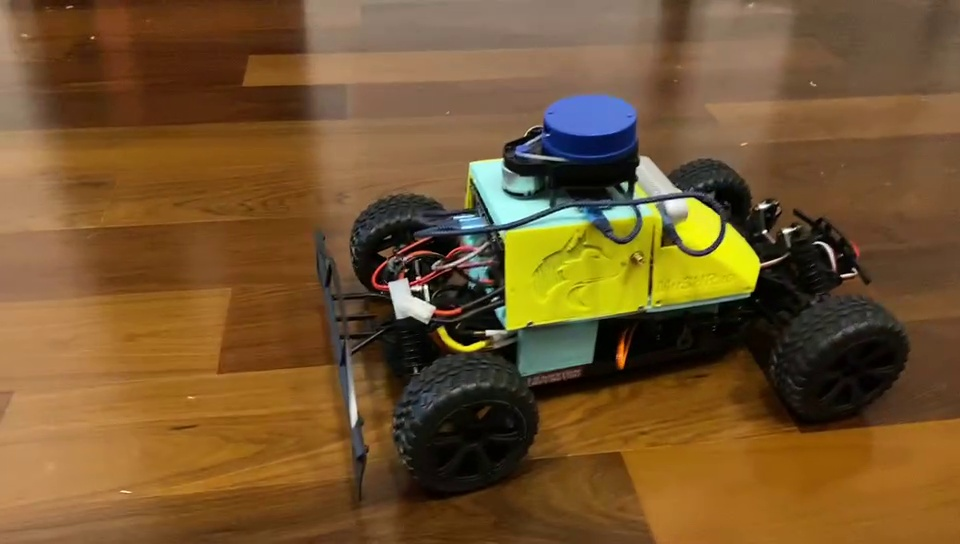mushr_car: (291, 94, 914, 499)
